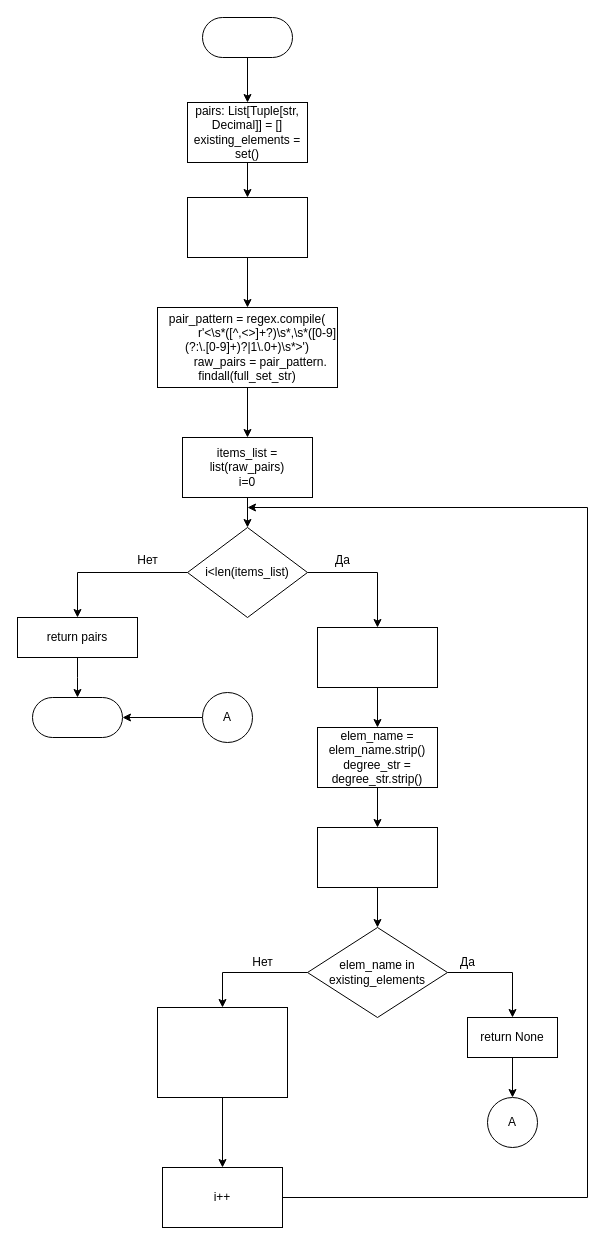
This 613x1245 diagram has some shape labels left out. The centre of each missing label's shape, as x and y in pixels:
begin: pixel 247 37
degree = Decimal(degree_str): pixel 377 857
elem_name, degree_str = items_list[i]: pixel 377 657
end: pixel 77 717
full_set_str = "{" + set_str + "}": pixel 247 227
pairs.append ((elem_name, degree)) existing_elements. add(elem_name): pixel 222 1052
